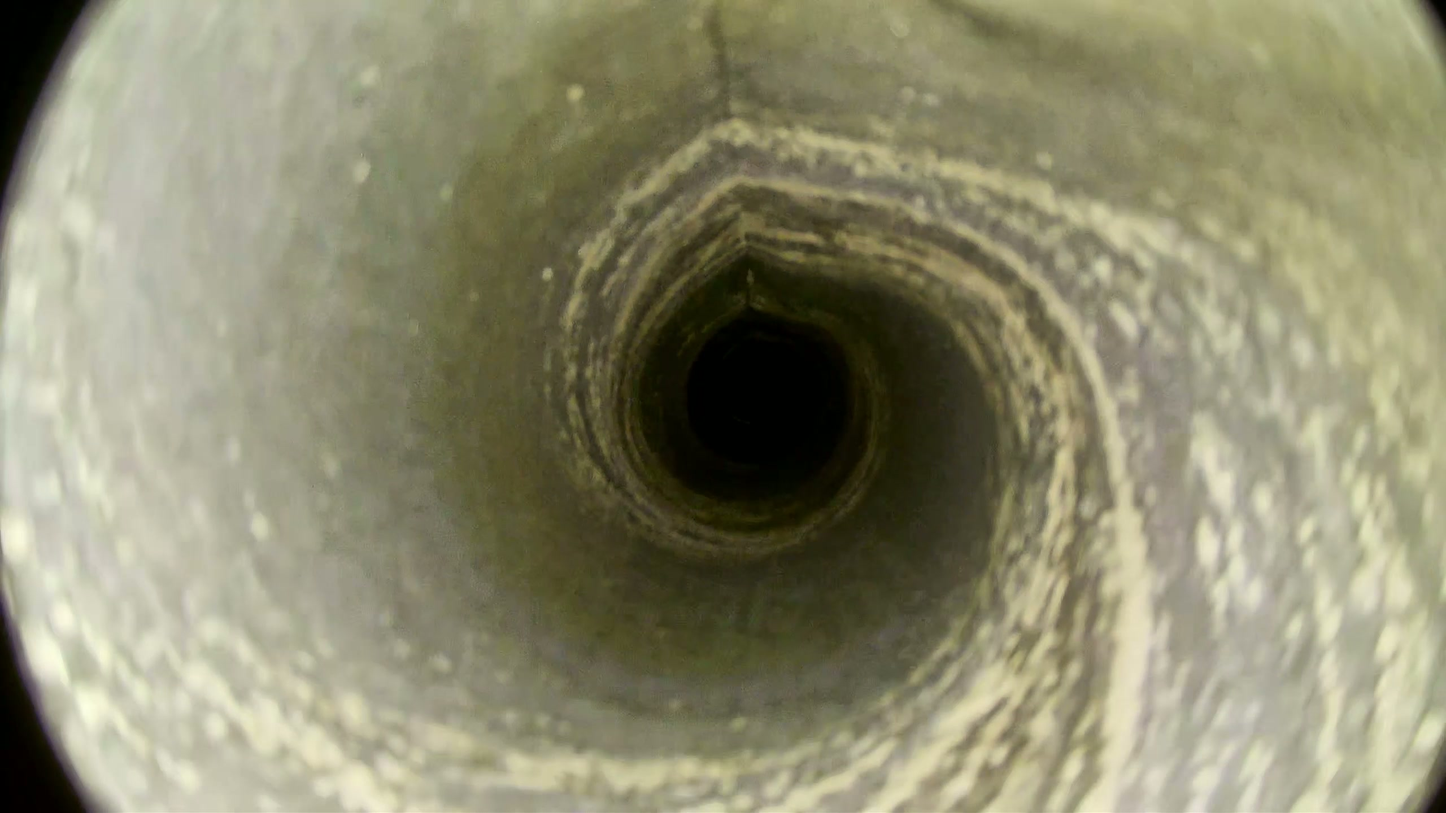hole: (688, 322, 827, 464)
